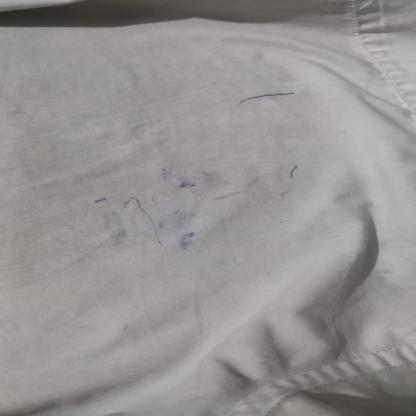spot: (79, 164, 257, 254), (119, 184, 245, 238), (240, 86, 312, 109), (272, 164, 316, 181)
